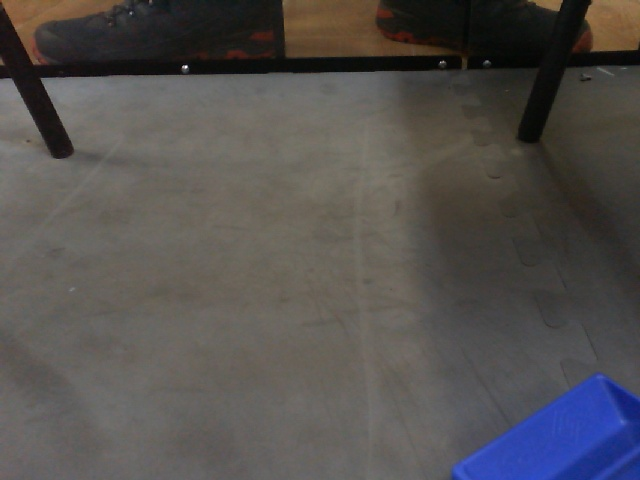BlueSample: (442, 372, 640, 480)
